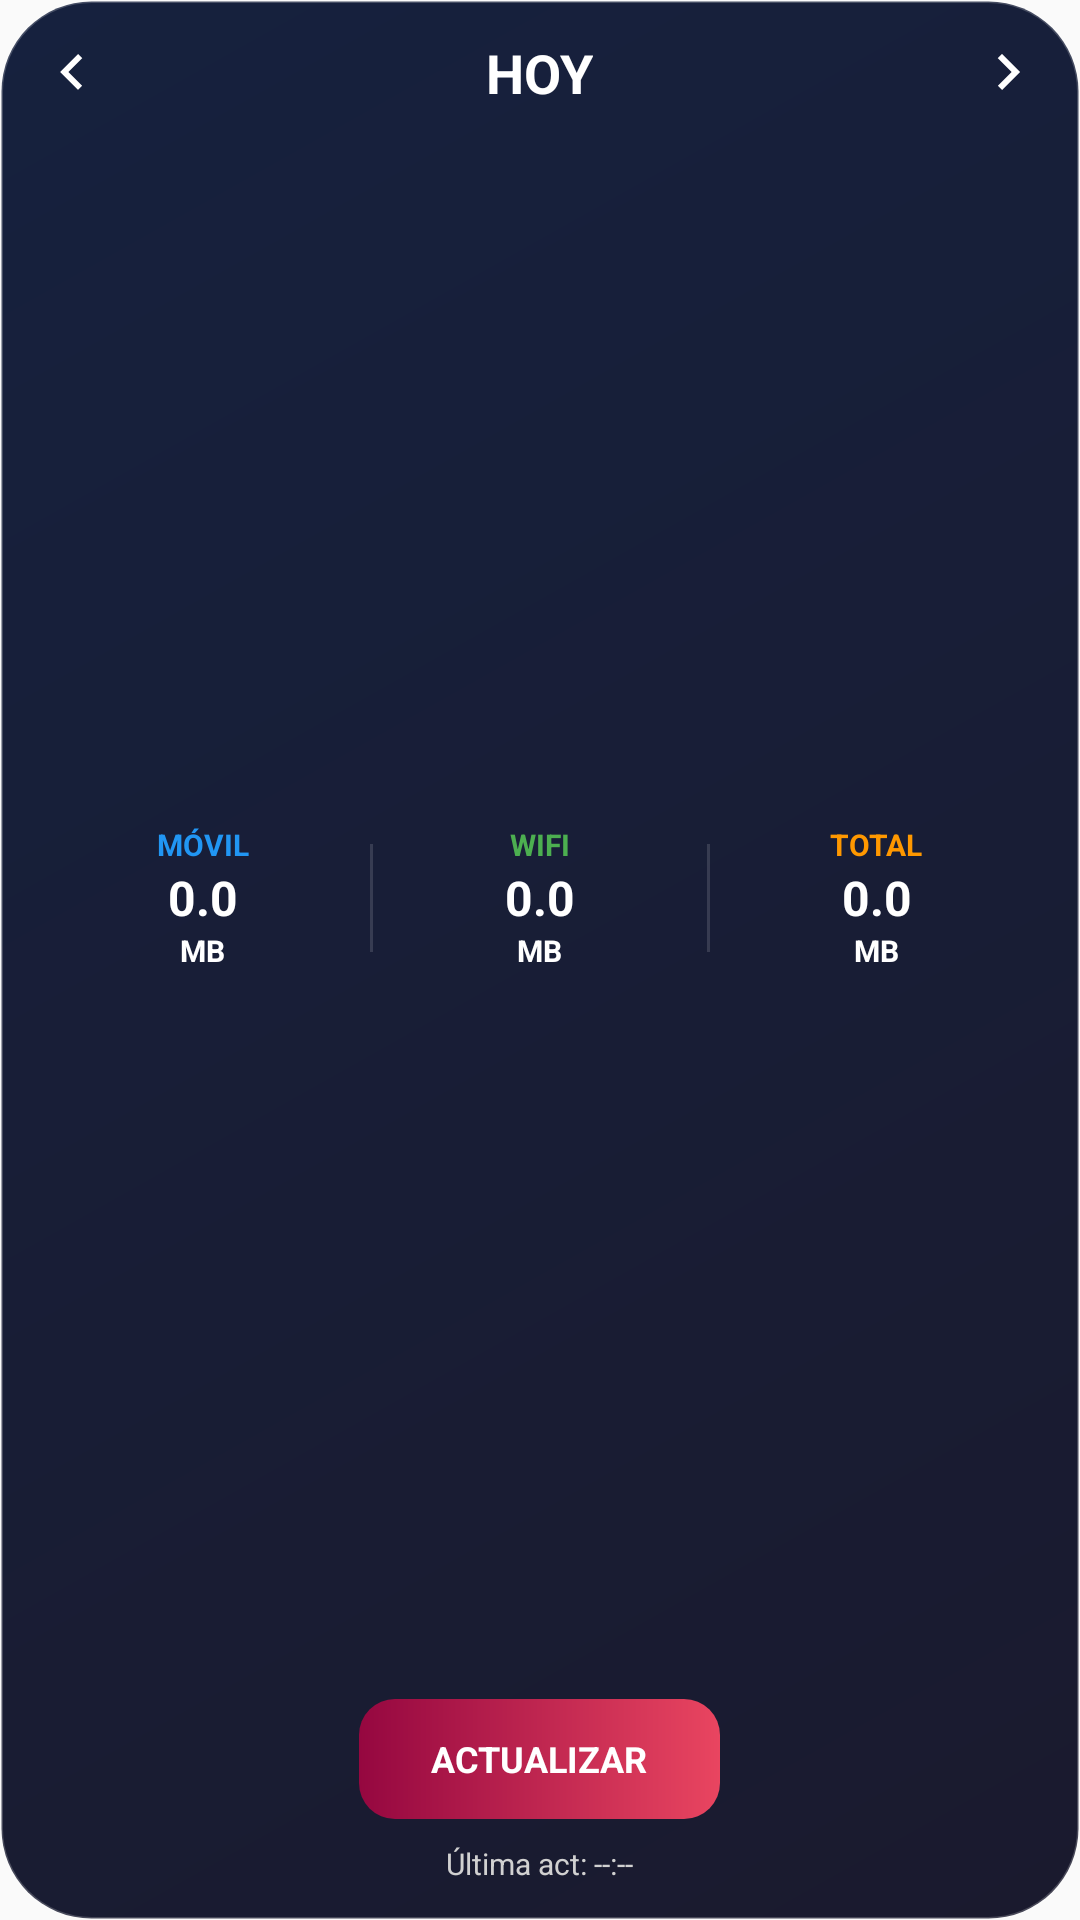

Screen size 1080x1920. Icon name, then its box in pixels as [x1=x1, y1=y1, x2=x2, y2=y2]:
arrow left: [x1=60, y1=54, x2=82, y2=90]
arrow right: [x1=998, y1=54, x2=1020, y2=90]
